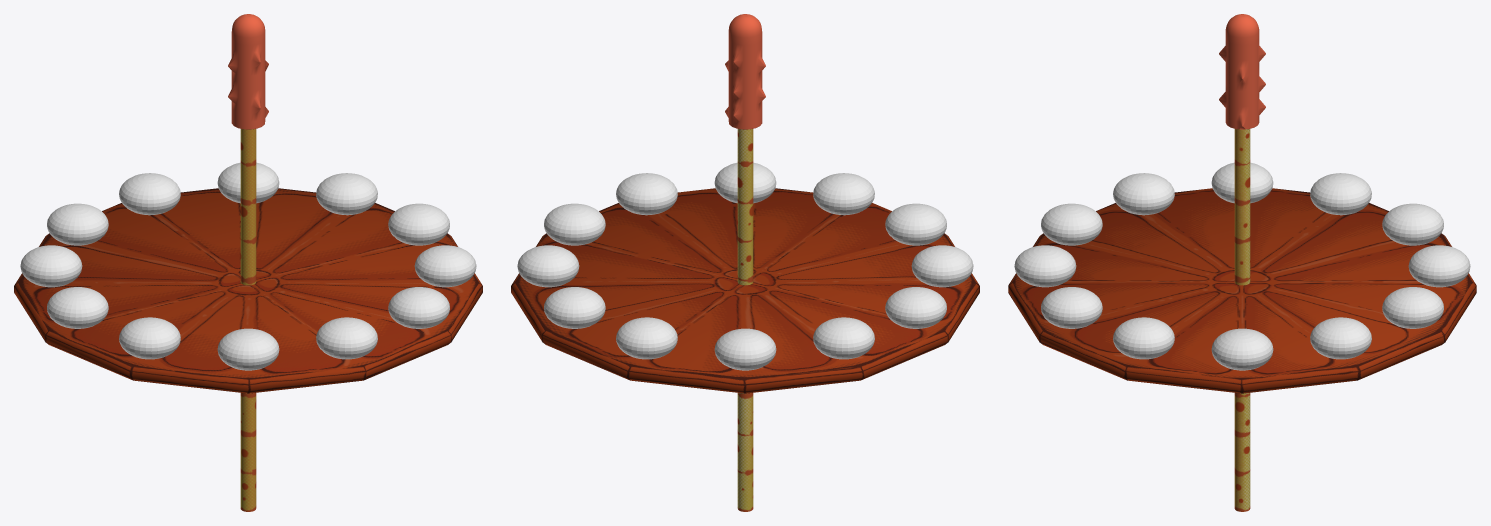
Rendered from Leaf_Platform_Red30_v0.fbx.
3 renders of one model, left to right at view 1: azimuth 30°, elevation 25°; view 2: azimuth 150°, elevation 25°; view 3: azimuth 270°, elevation 25°, orthographic.
Parts seen in each view (by area): view 1: Platform_Red30m, Floats30, Pole, LightTop; view 2: Platform_Red30m, Floats30, Pole, LightTop; view 3: Platform_Red30m, Floats30, Pole, LightTop.
Boxes of the visible parts, x1,y1,x2,y2 form: Platform_Red30m: (14, 188, 482, 393); Floats30: (20, 162, 476, 370); Pole: (240, 129, 256, 511); LightTop: (228, 14, 268, 129); Platform_Red30m: (511, 188, 979, 393); Floats30: (517, 162, 973, 370); Pole: (737, 129, 753, 511); LightTop: (725, 14, 765, 129); Platform_Red30m: (1008, 188, 1476, 393); Floats30: (1014, 162, 1470, 370); Pole: (1234, 129, 1250, 511); LightTop: (1219, 14, 1265, 129).
Size of the model in its own units: 3000 by 3000 by 3482.
